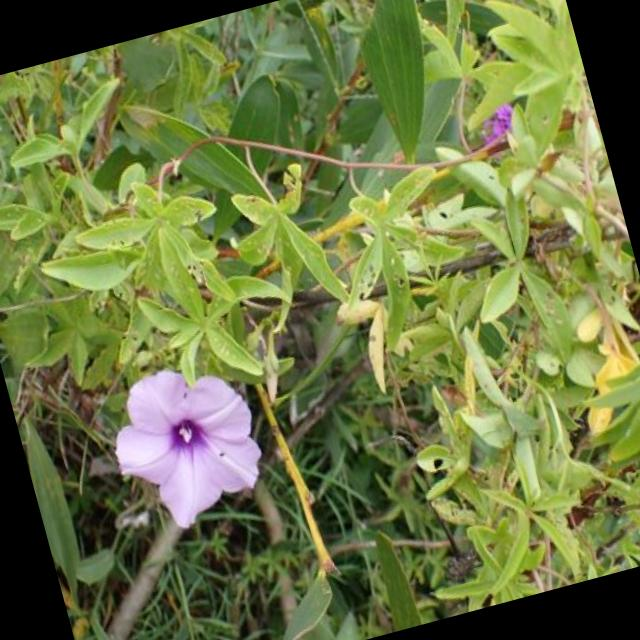ipomoea: (92, 345, 280, 547)
